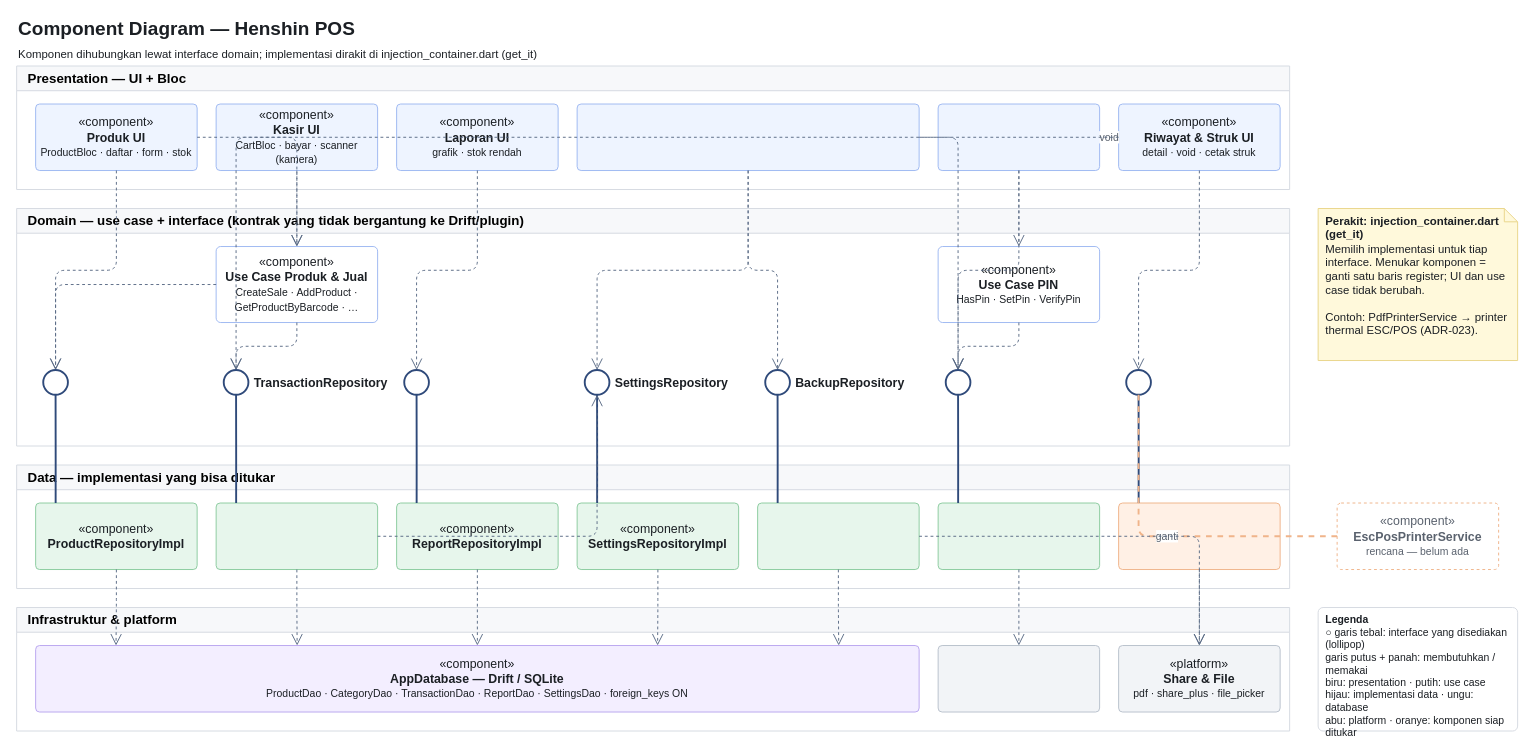
Image size: 1534x755. Some labels were removed from this diagram. The shapes that lost their labels are listed below. From the top down, each one's centre as x and y in pixels, then its label:
point 747,137: «component» Pengaturan UI info toko · backup / restore · status PIN
point 1018,137: «component» PIN Gate PinBloc · buat / verifikasi PIN
point 55,382: ProductRepository
point 416,382: ReportRepository
point 957,382: PinRepository
point 1138,382: PrinterService
point 296,536: «component» TransactionRepositoryImpl jual + stok atomik
point 838,536: «component» BackupRepositoryImpl VACUUM INTO · restore
point 1018,536: «component» PinRepositoryImpl hash PIN (crypto)
point 1199,536: «component» PdfPrinterService ReceiptFormatter → PDF
point 1018,678: «platform» Secure Storage Android Keystore
